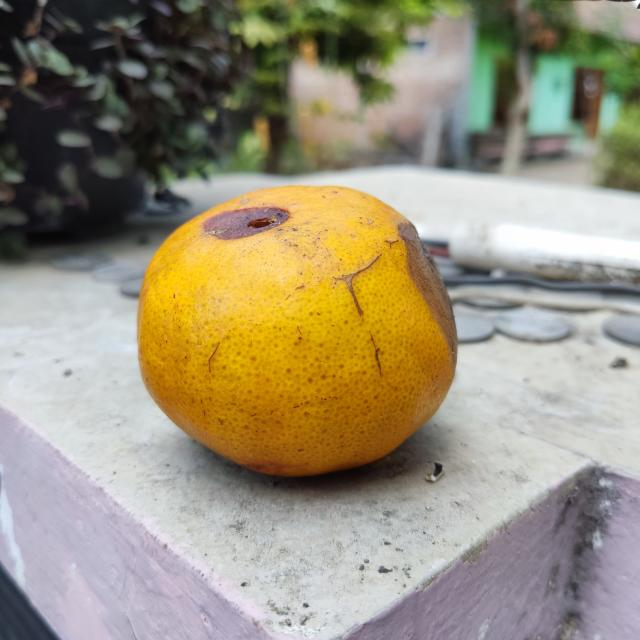orange: (133, 180, 458, 479)
